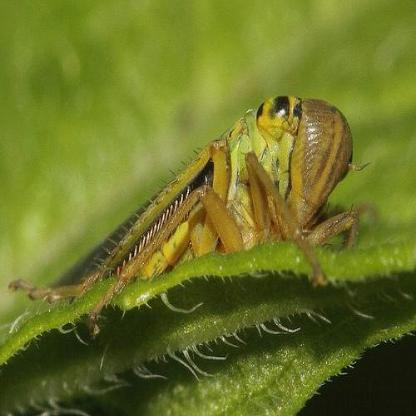Green-Leafhopper: (40, 88, 353, 295)
